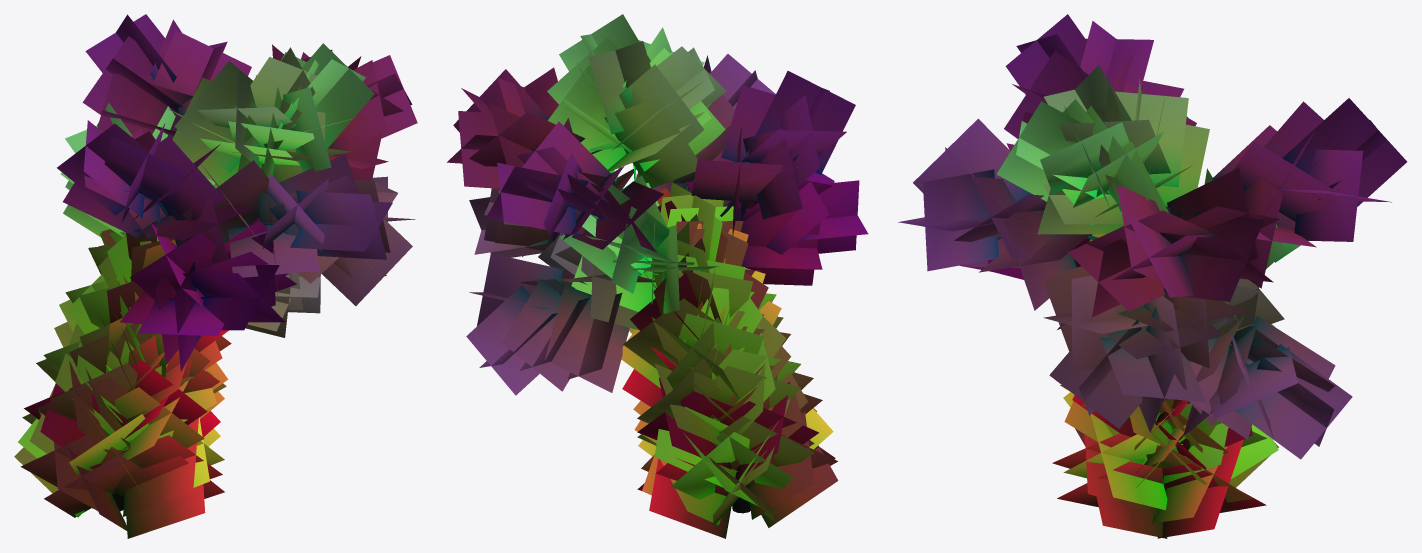
Rendered from URP_P3_Tree_13_LOD_2.fbx.
3 renders of one model, left to right at view 1: azimuth 30°, elevation 25°; view 2: azimuth 150°, elevation 25°; view 3: azimuth 270°, elevation 25°, orthographic. The views are drawn at different scales.
Parts seen in each view (by area): view 1: Tree_13_LOD_2; view 2: Tree_13_LOD_2; view 3: Tree_13_LOD_2.
Part boxes in pixels (x1,y1,x2,y2): Tree_13_LOD_2: [14, 14, 417, 538]; Tree_13_LOD_2: [447, 14, 868, 538]; Tree_13_LOD_2: [898, 14, 1406, 538].
Bounding box in the file's own units: 558 × 637 × 578.
